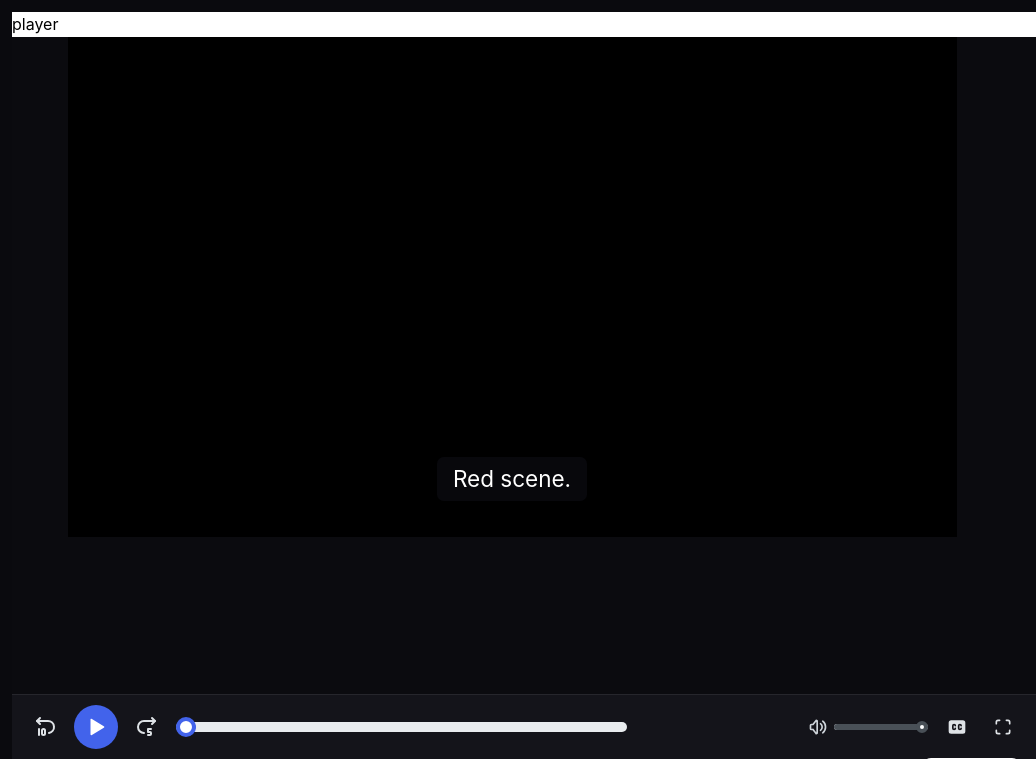
Scenario: Player with a Talkie film › the end of the film shows the end screen
This screenshot has width=1036, height=759.
Click the button with test id "play-pause".
click(96, 727)  # box [74, 705, 118, 749]
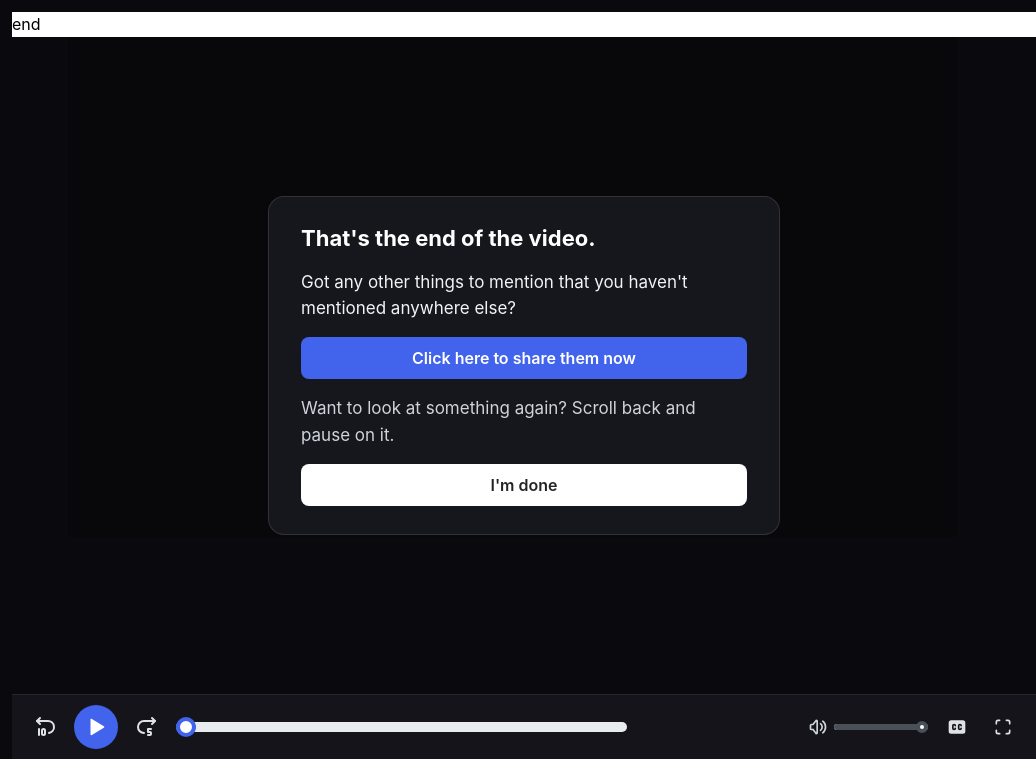
Result: the text with test id "screen" reads "end" at [12, 14, 41, 34]
